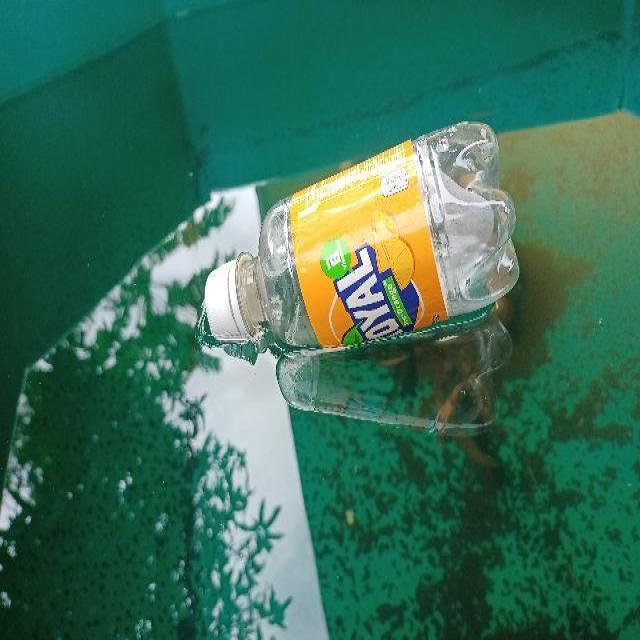Bottle: (200, 119, 525, 346)
